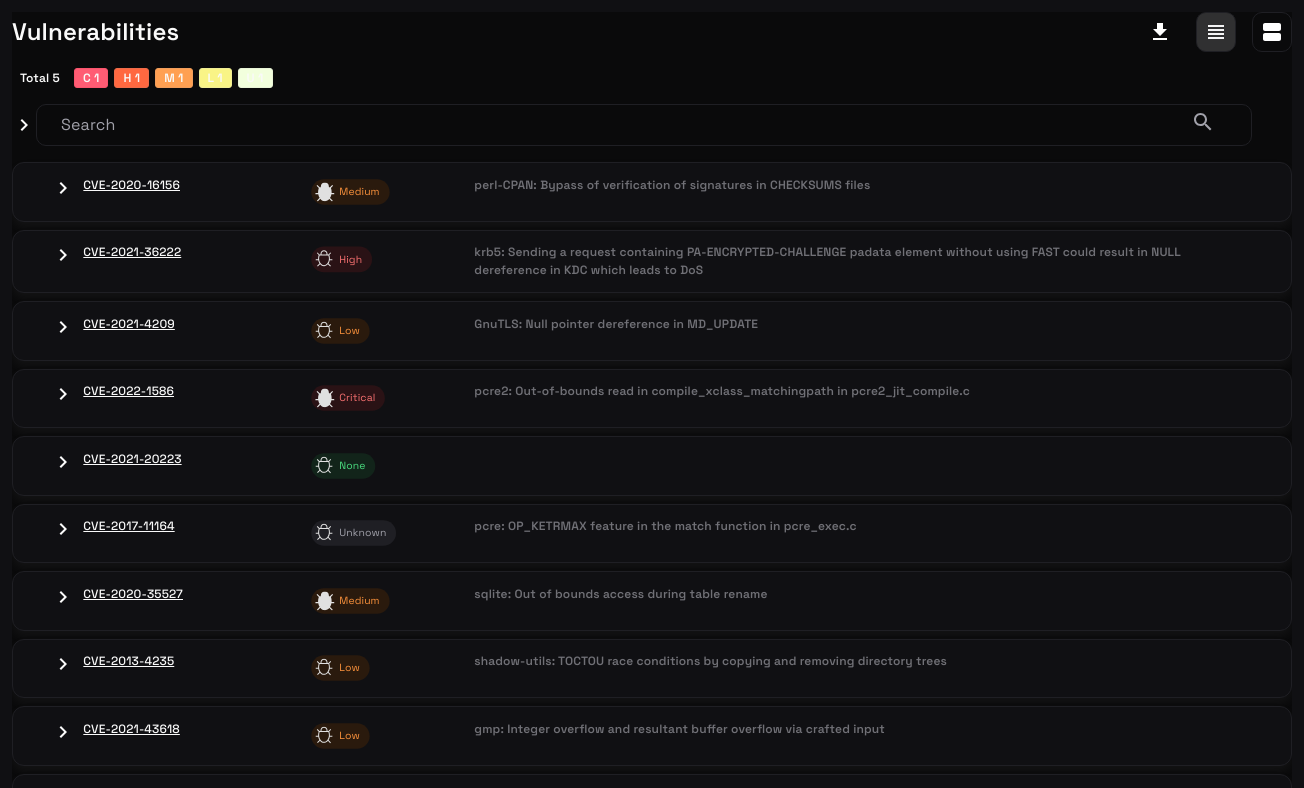
Test case: Vulnerabilties page › should show description for vulnerabilities
What coordinates should you click on to do the following:
click the button with test id "ViewAgendaIcon"
I would click on:
 (1272, 32)
Its box is [1252,12,1292,52].
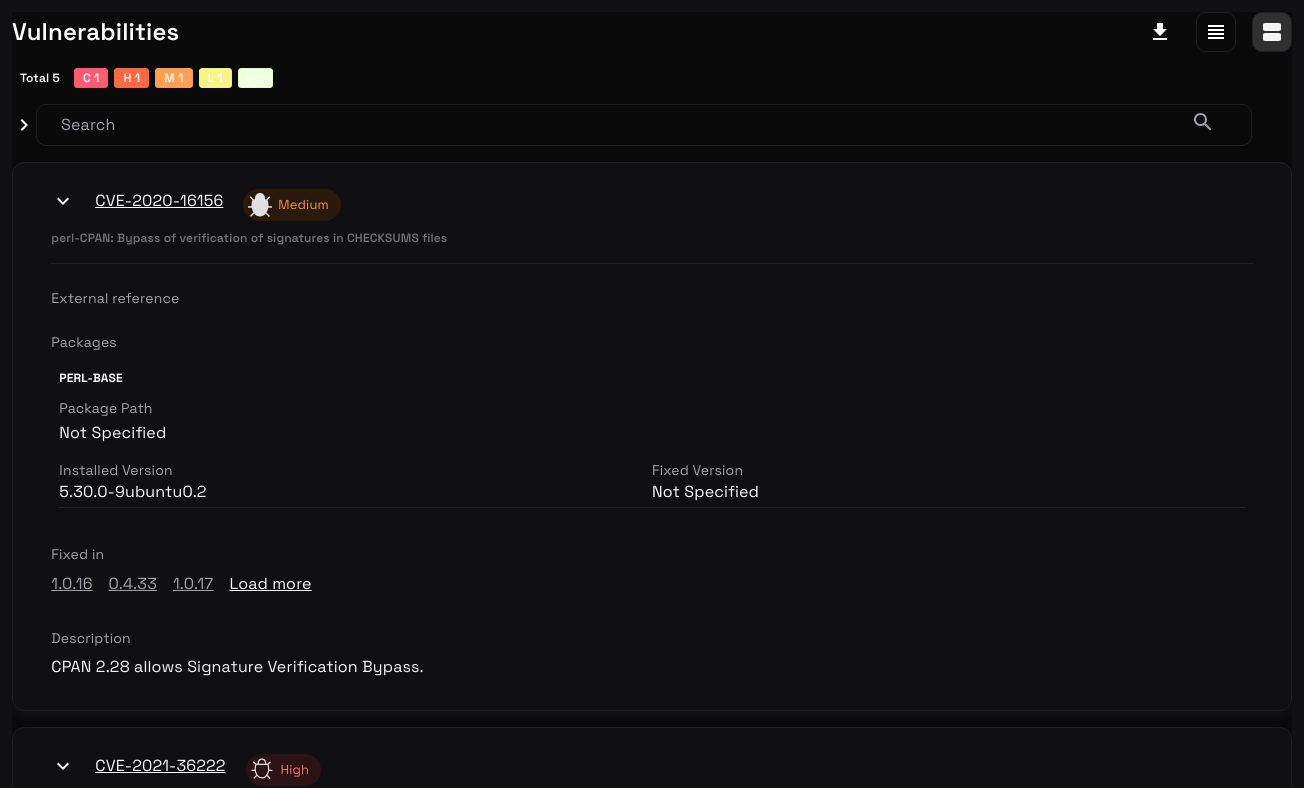
Check: the text "Description" is shown 20 times
Check: the text "CPAN 2.28 allows Signature Verification Bypass." is shown once, box [51,656,424,677]
